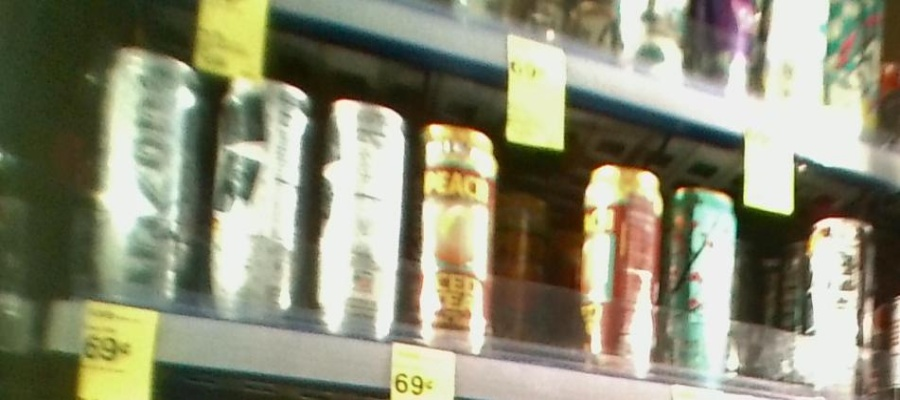bottle: (93, 41, 203, 310), (208, 60, 310, 328), (316, 87, 414, 335), (577, 157, 668, 384), (417, 113, 501, 352), (671, 169, 738, 383), (809, 206, 879, 398), (505, 172, 564, 355)
